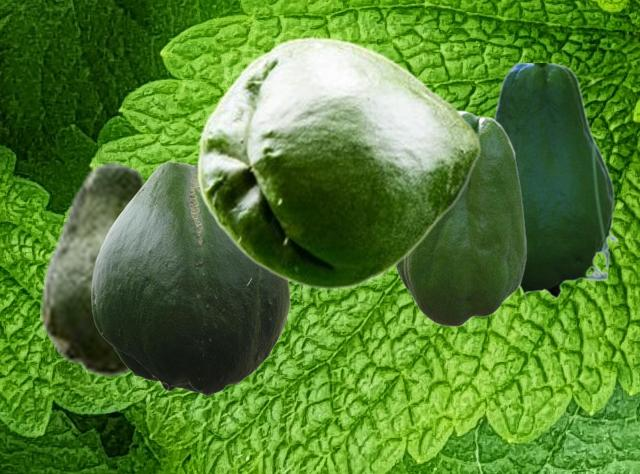sayote: (196, 36, 480, 289), (91, 161, 289, 396), (493, 63, 618, 302), (395, 110, 526, 326), (40, 161, 149, 377)
